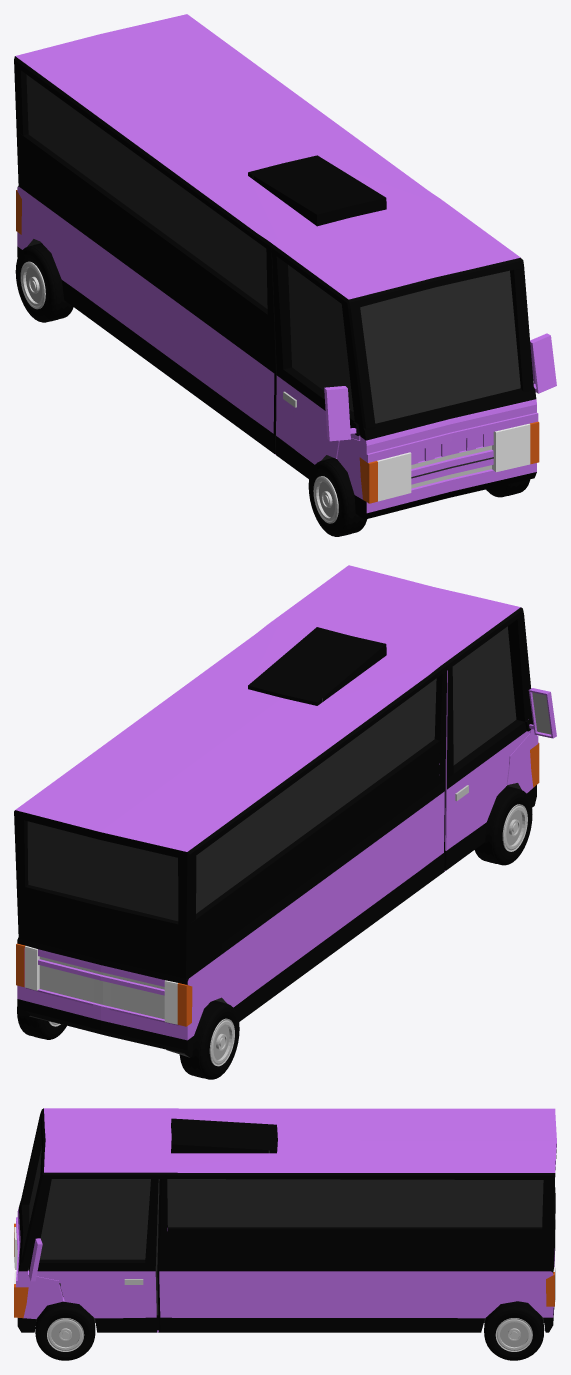
The model's file is CR-CAR-13.fbx.
3 renders of one model, top to bottom at view 1: azimuth 30°, elevation 25°; view 2: azimuth 150°, elevation 25°; view 3: azimuth 270°, elevation 25°, orthographic. The views are drawn at different scales.
Parts seen in each view (by area): view 1: BODY, WHEEL.001, WHEEL.004; view 2: BODY, WHEEL.004, WHEEL.001, WHEEL.002; view 3: BODY, WHEEL.003, WHEEL.002.
Part boxes in pixels (x1,y1,x2,y2): BODY: [14, 14, 556, 519]; WHEEL.001: [308, 458, 367, 536]; WHEEL.004: [15, 243, 73, 322]; BODY: [14, 565, 556, 1057]; WHEEL.004: [179, 1000, 239, 1079]; WHEEL.001: [475, 786, 532, 865]; WHEEL.002: [17, 1007, 66, 1039]; BODY: [14, 1108, 556, 1332]; WHEEL.003: [35, 1301, 95, 1360]; WHEEL.002: [484, 1301, 544, 1360].
Size of the model in its own units: 131 by 141 by 353.
